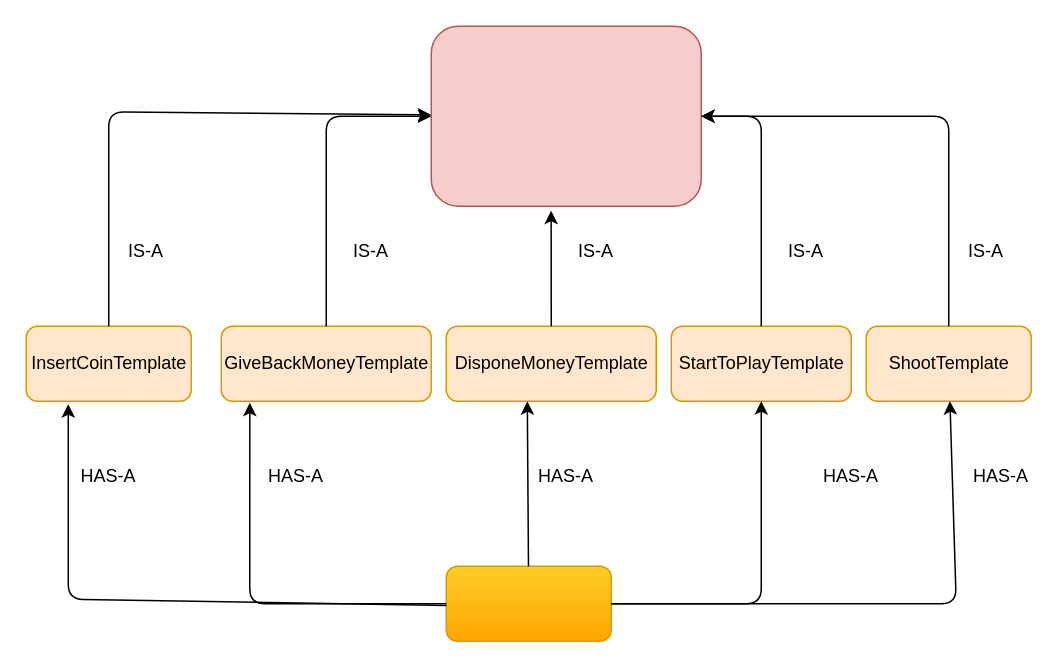
Some shapes in this 1058 by 668 pixel diagram are drawn without their labels. The box of each missing label's shape, as (x1, y1, x2, y2) in pixels:
<<Abstract>> OperationTemplate + final progress() + abstract operation(): (430, 25, 701, 206)
MachineController: (445, 565, 611, 641)
